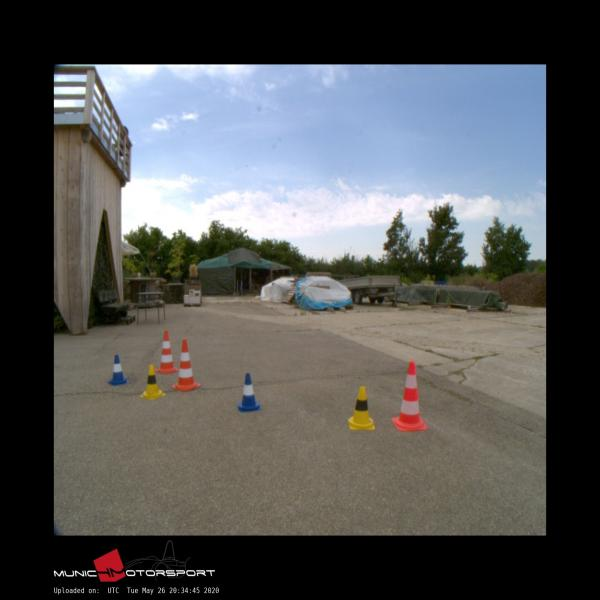blue_cone: (237, 373, 261, 411), (108, 355, 129, 386)
large_orange_cone: (390, 360, 428, 430), (172, 339, 200, 390), (154, 330, 179, 373)
yellow_cone: (348, 386, 374, 429), (140, 364, 166, 399)
